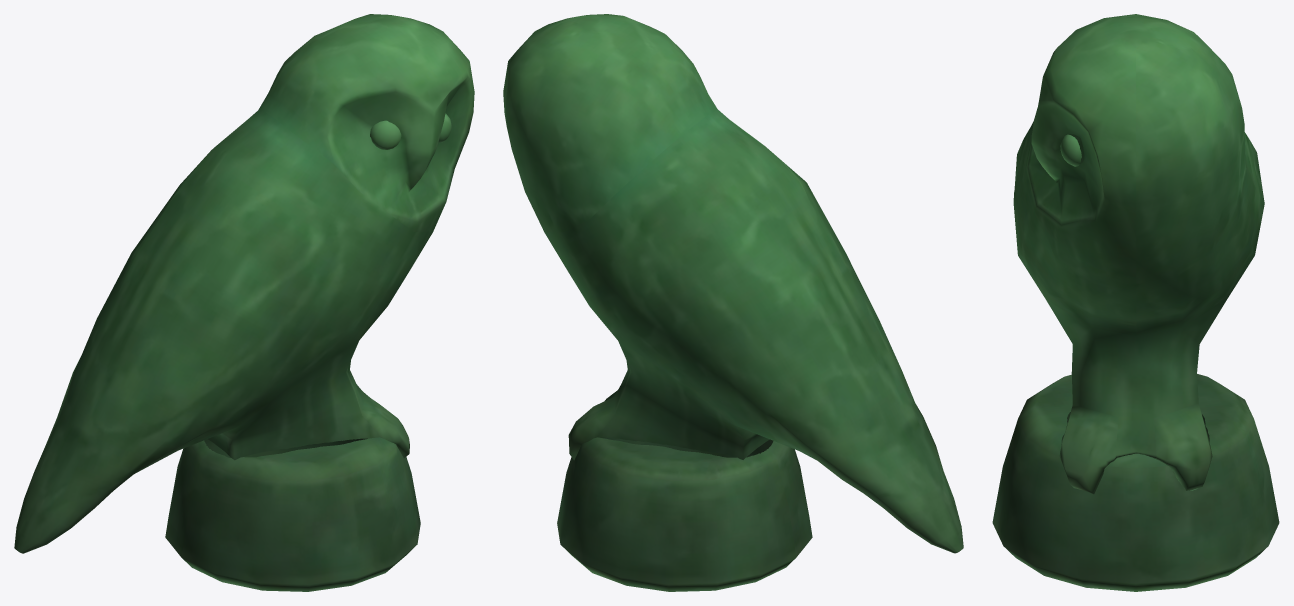
3 views of the same model, side by side, from view 1: azimuth 30°, elevation 25°; view 2: azimuth 150°, elevation 25°; view 3: azimuth 270°, elevation 25° (orthographic). The views are drawn at different scales.
Visible parts, largest first — view 1: SM_Glass_Owl_01_LOD0; view 2: SM_Glass_Owl_01_LOD0; view 3: SM_Glass_Owl_01_LOD0.
Part boxes in pixels (bbox=[...]): SM_Glass_Owl_01_LOD0: bbox=[14, 14, 474, 591]; SM_Glass_Owl_01_LOD0: bbox=[503, 14, 963, 591]; SM_Glass_Owl_01_LOD0: bbox=[992, 14, 1279, 591].
Size of the model in its own units: 0.2212 by 0.2342 by 0.1098.
1 material, 1 textured.
